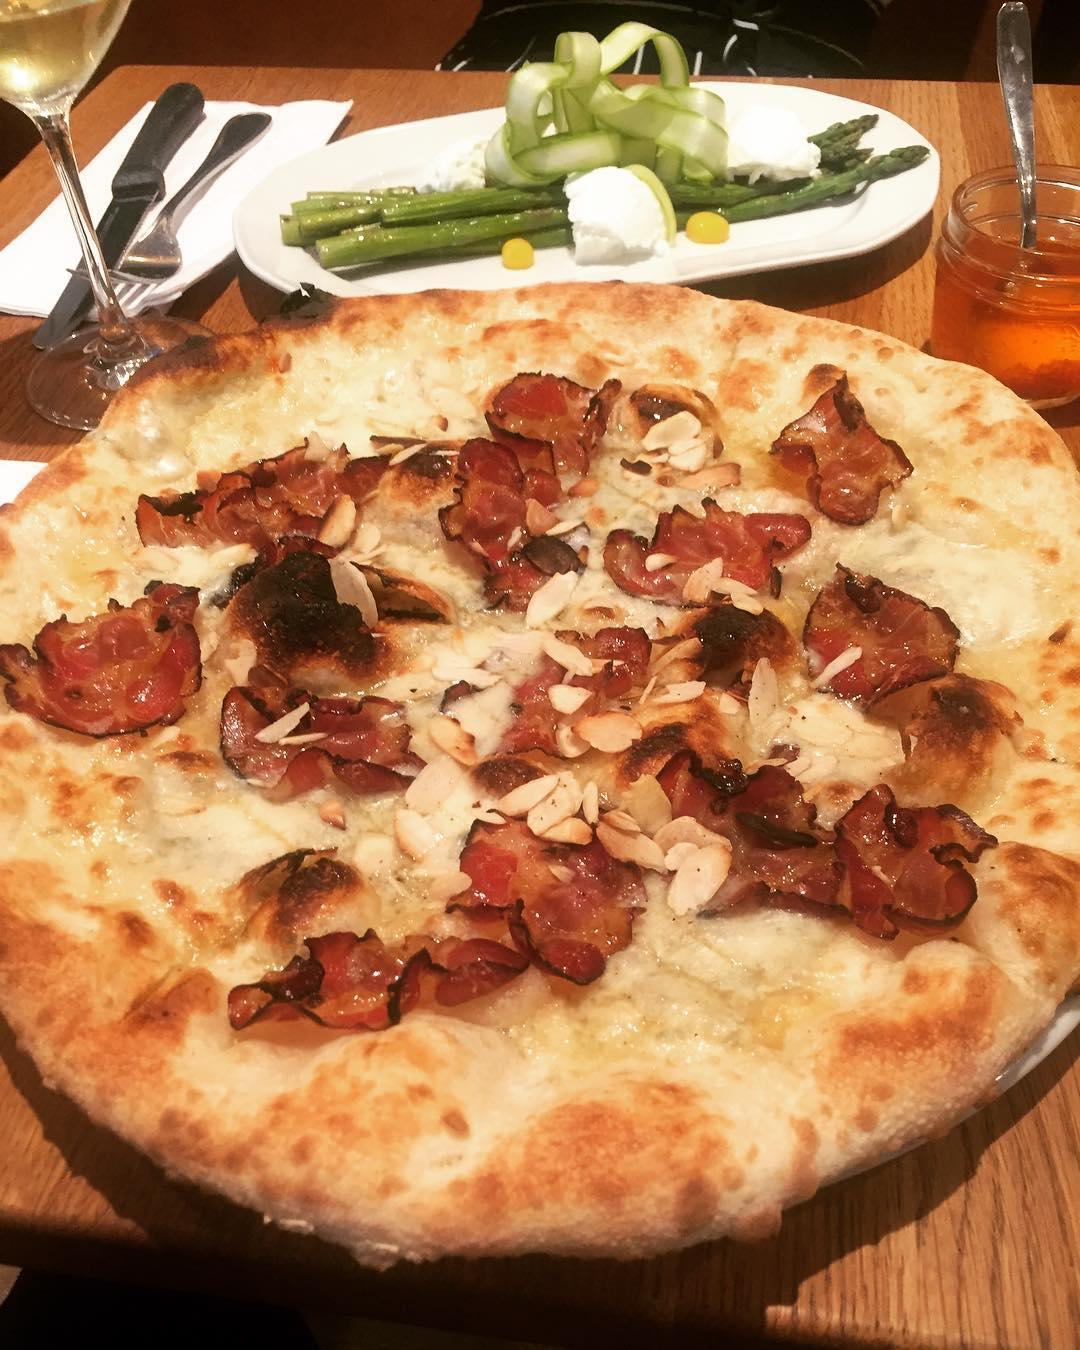Ham: (660, 739, 1000, 942), (461, 803, 651, 987), (0, 584, 207, 737), (136, 434, 368, 560), (222, 663, 428, 800), (216, 927, 462, 1033), (811, 559, 966, 708), (452, 438, 584, 606), (488, 625, 649, 759), (786, 364, 912, 527), (605, 509, 811, 607), (488, 371, 624, 486)
Pizza: (0, 282, 1080, 1259)
